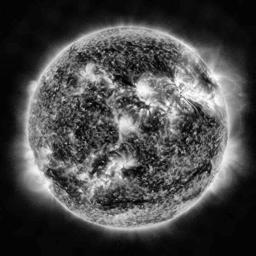solar flares: (185, 85, 212, 108), (134, 80, 160, 103), (116, 113, 135, 140), (83, 66, 105, 85), (162, 104, 179, 125), (110, 159, 136, 168), (176, 74, 185, 89)
sunspots: (96, 194, 146, 207), (185, 112, 213, 134), (53, 171, 79, 194), (88, 98, 111, 115), (70, 122, 94, 137), (120, 97, 151, 108), (141, 116, 157, 137), (190, 159, 212, 172), (150, 60, 167, 76), (145, 149, 160, 167), (54, 145, 71, 159), (115, 74, 132, 85), (93, 155, 106, 169), (201, 75, 210, 89), (129, 165, 143, 173)
